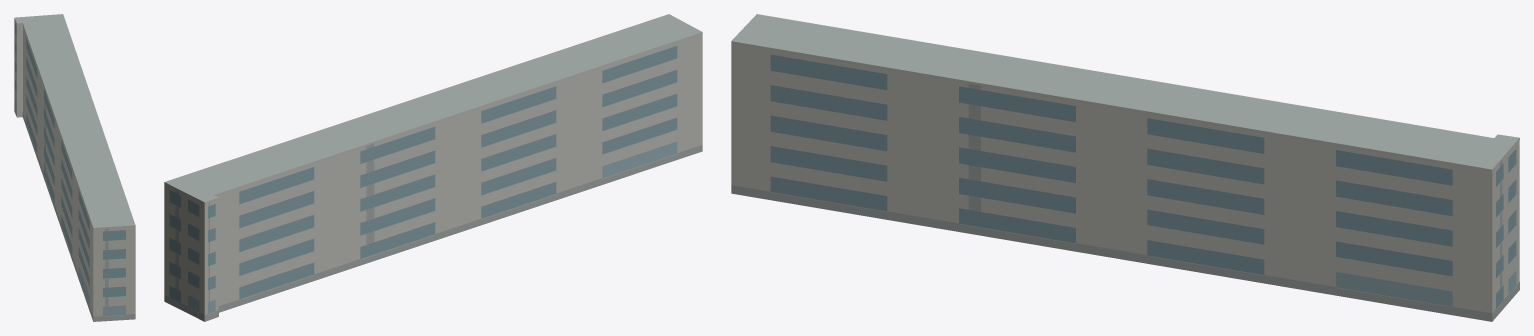
Rendered from survey-upis-32783796.glb.
3 views of the same model, side by side, from view 1: azimuth 30°, elevation 25°; view 2: azimuth 150°, elevation 25°; view 3: azimuth 270°, elevation 25° (orthographic). The views are drawn at different scales.
Visible parts, largest first — view 1: survey-upis-32783796.tmp; view 2: survey-upis-32783796.tmp; view 3: survey-upis-32783796.tmp.
Boxes of the visible parts, left/top/right/bottom form: survey-upis-32783796.tmp: left=14, top=14, right=135, bottom=321; survey-upis-32783796.tmp: left=164, top=14, right=702, bottom=321; survey-upis-32783796.tmp: left=731, top=14, right=1519, bottom=321.
Size of the model in its own units: 33.4 by 15.25 by 71.53.
